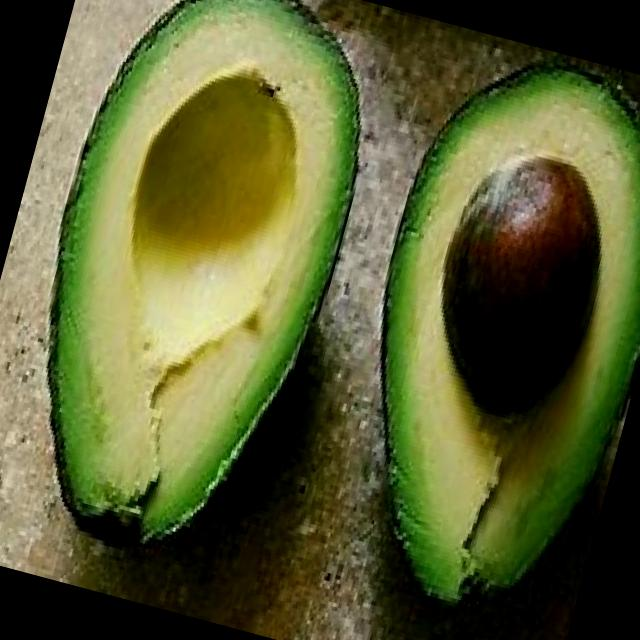avocado: (0, 0, 413, 594), (291, 35, 640, 639)
